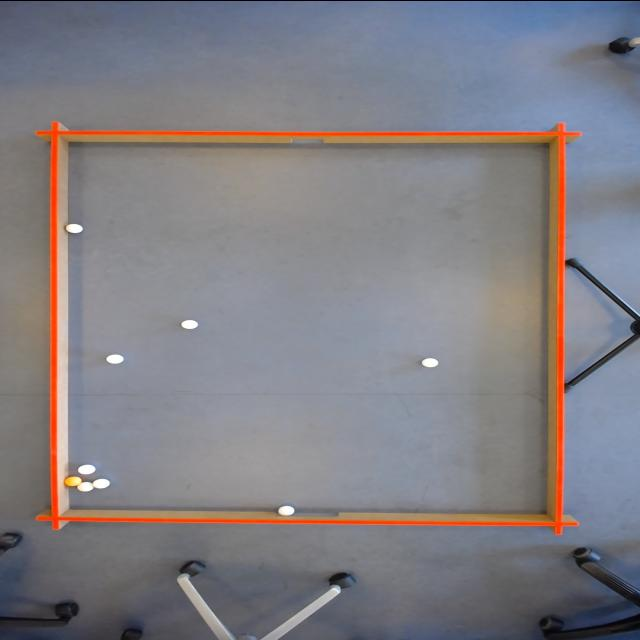orange_ball: (62, 475, 82, 487)
white_ball: (419, 356, 444, 370), (274, 502, 298, 516), (75, 462, 97, 475), (103, 352, 126, 364), (179, 318, 202, 330), (91, 476, 112, 488), (65, 222, 86, 233), (76, 481, 96, 491)
